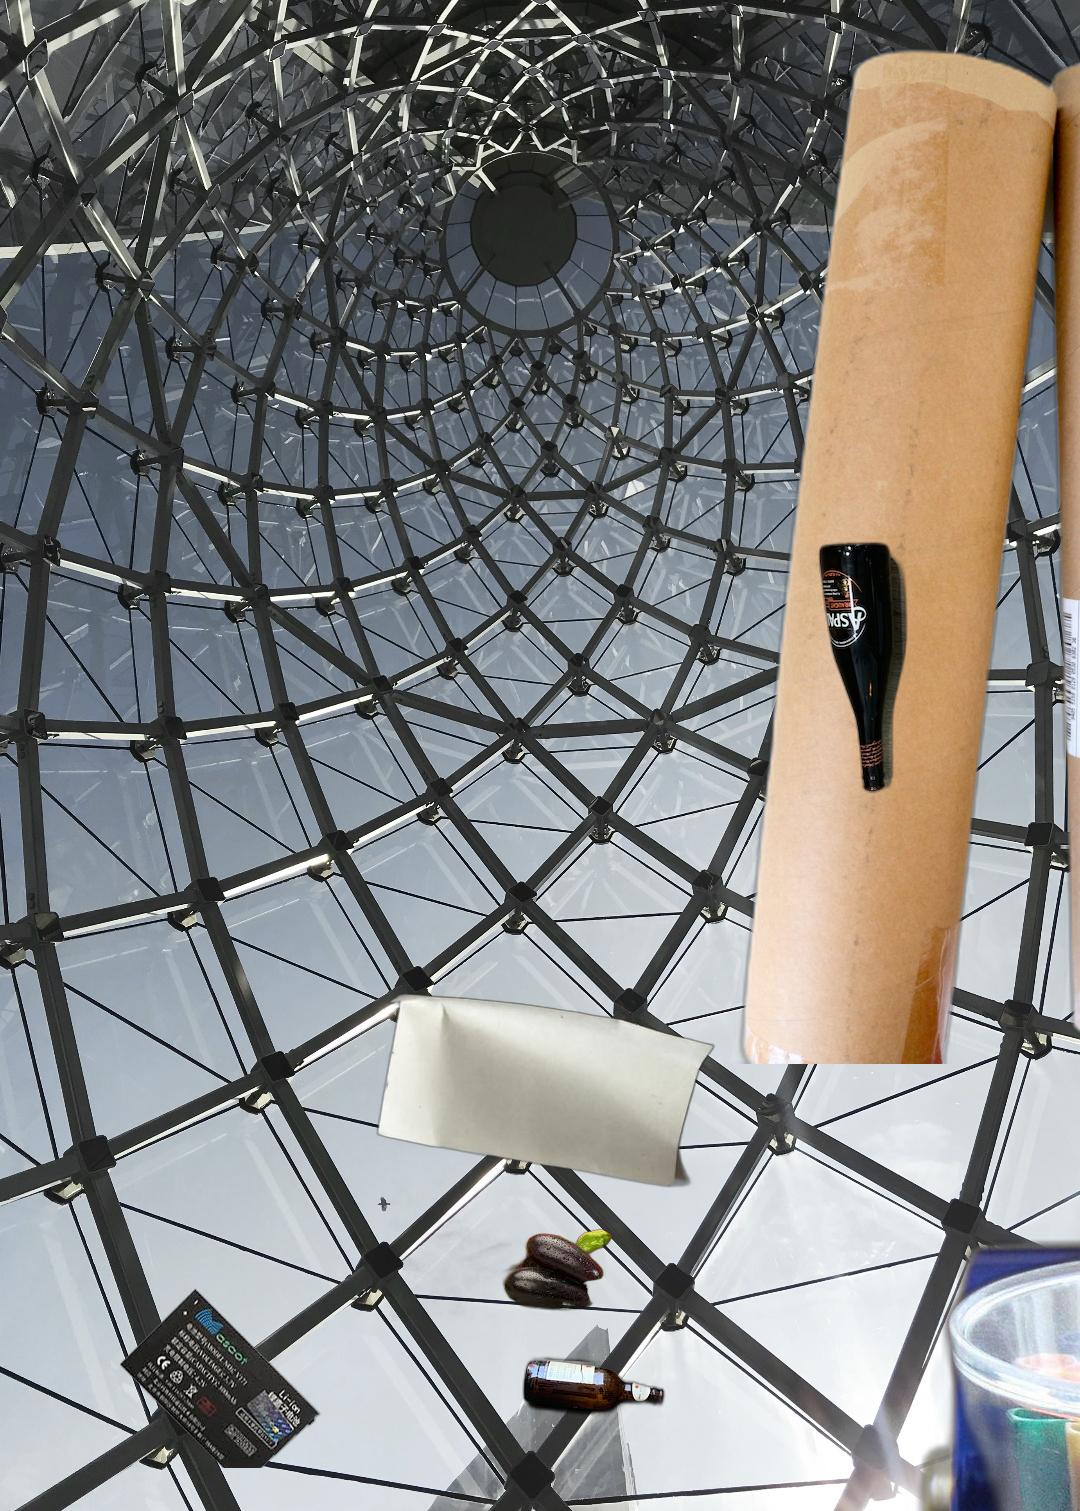battery: (905, 1222, 1080, 1511), (119, 1285, 323, 1468)
biological: (385, 1130, 644, 1323)
glass: (814, 538, 911, 822), (519, 1352, 669, 1421)
paper: (372, 990, 718, 1190)
penholder: (868, 1238, 1080, 1511)
trashbox-cardboard: (520, 40, 1080, 1063)
